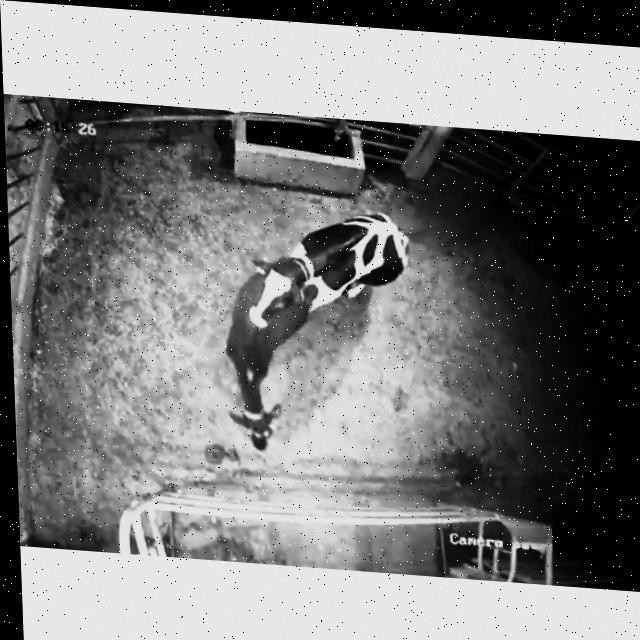ride: (246, 205, 434, 346)
